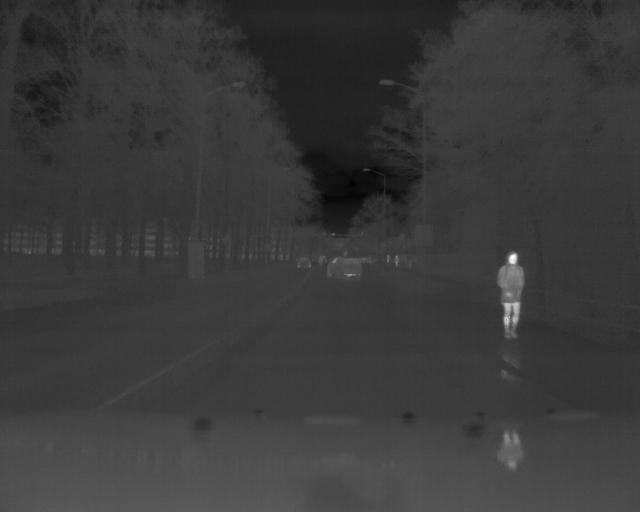car: (325, 253, 365, 282), (295, 253, 313, 274)
person: (493, 248, 530, 343)
